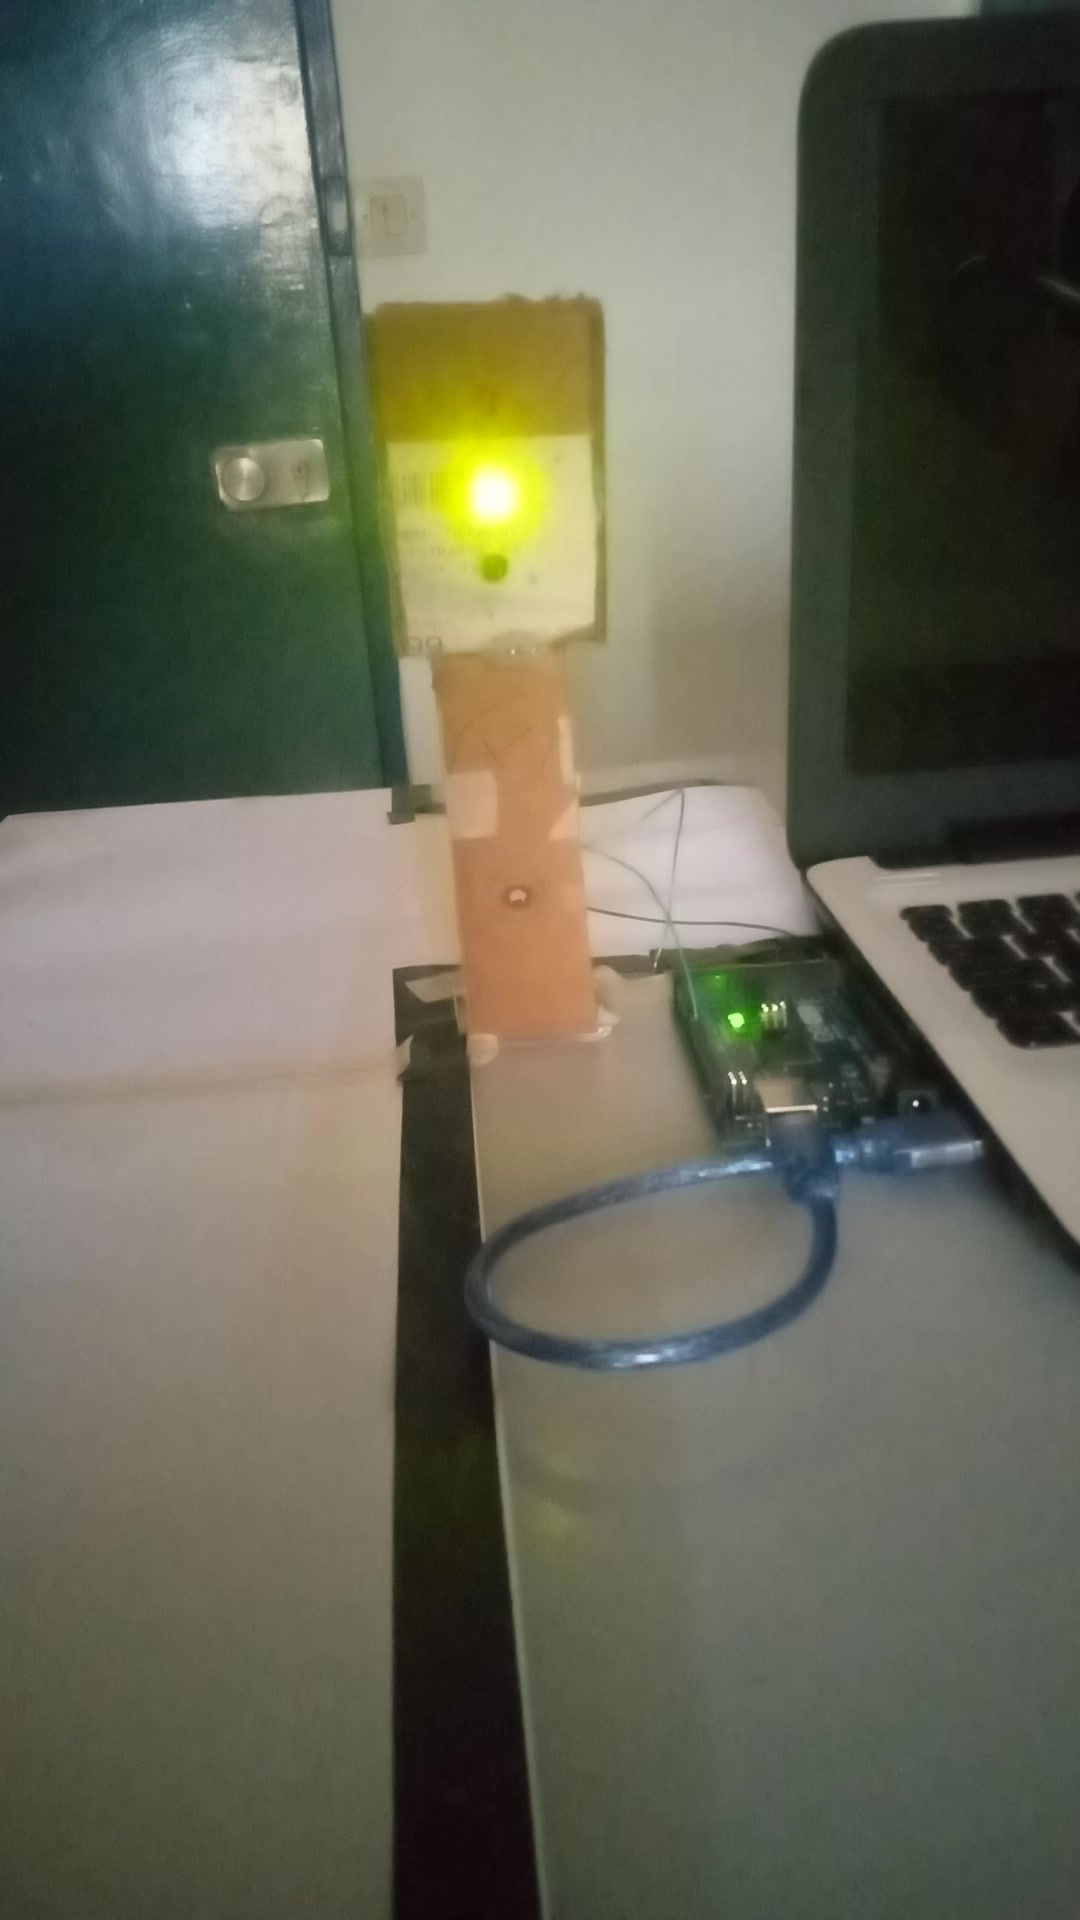yellow: (364, 309, 597, 634)
